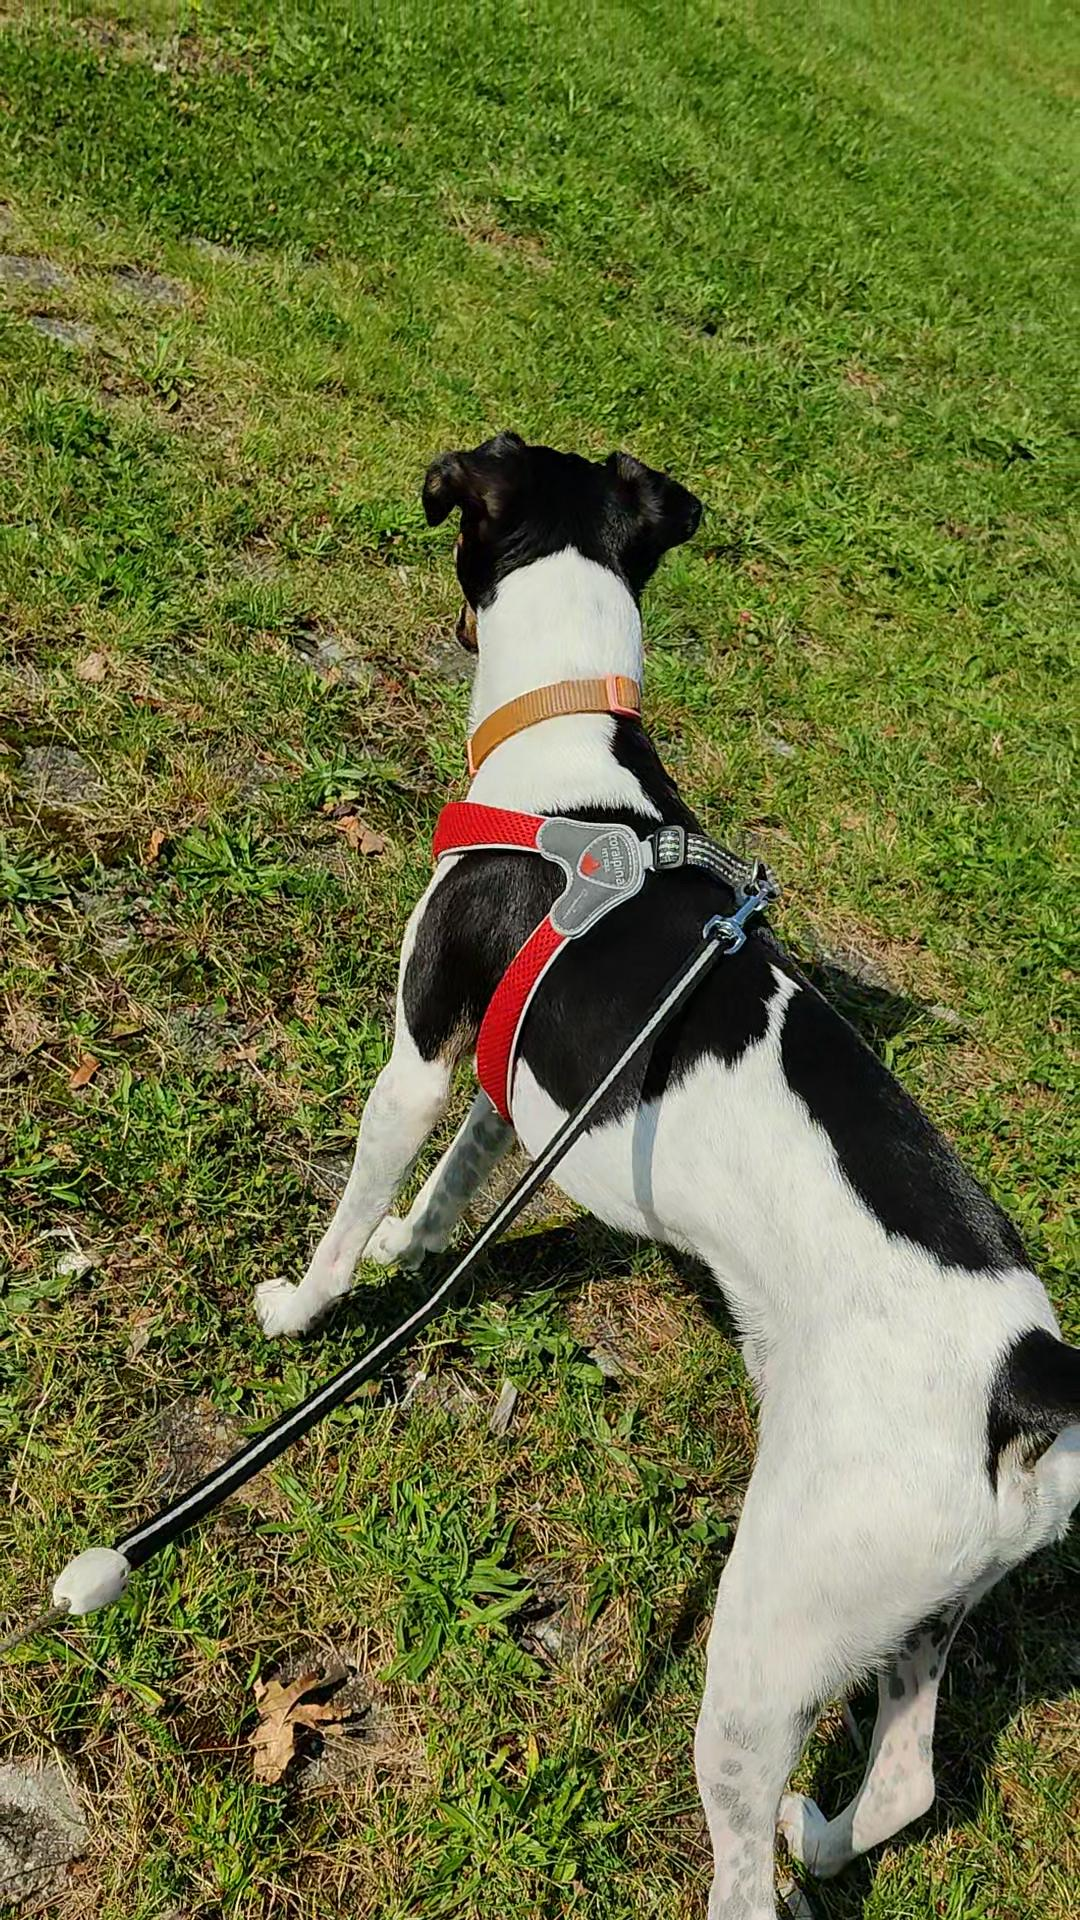Dog: (235, 419, 1079, 1919)
